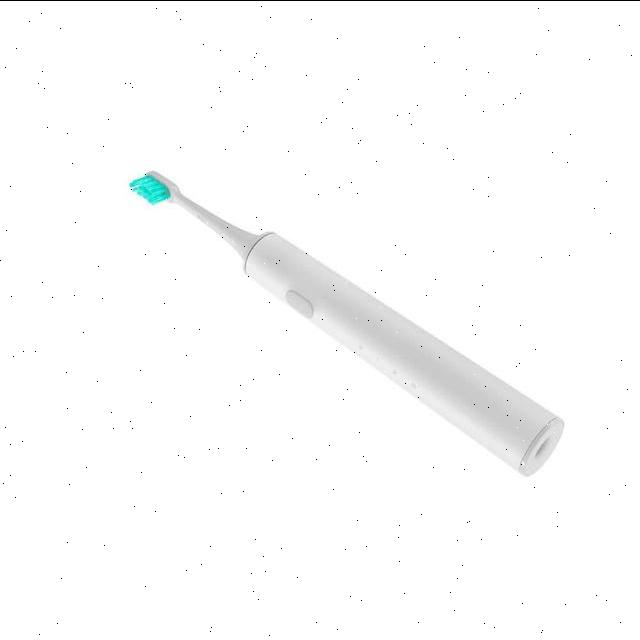toothbrush: (91, 154, 627, 534)
